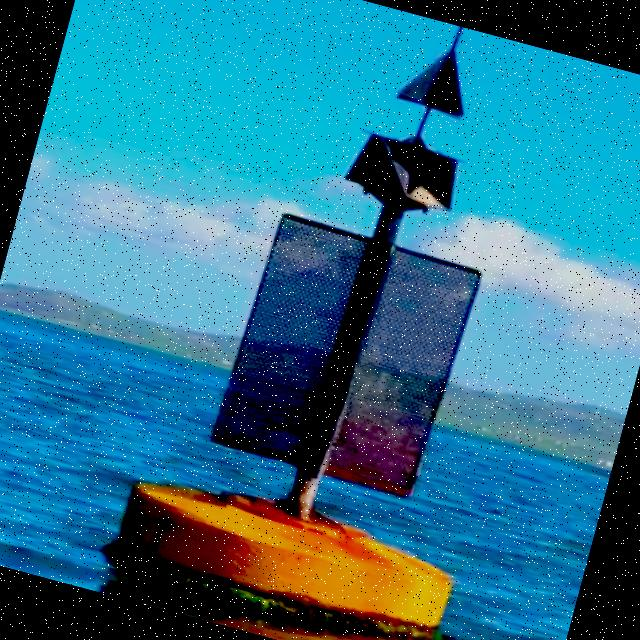marque: (98, 1, 597, 640)
